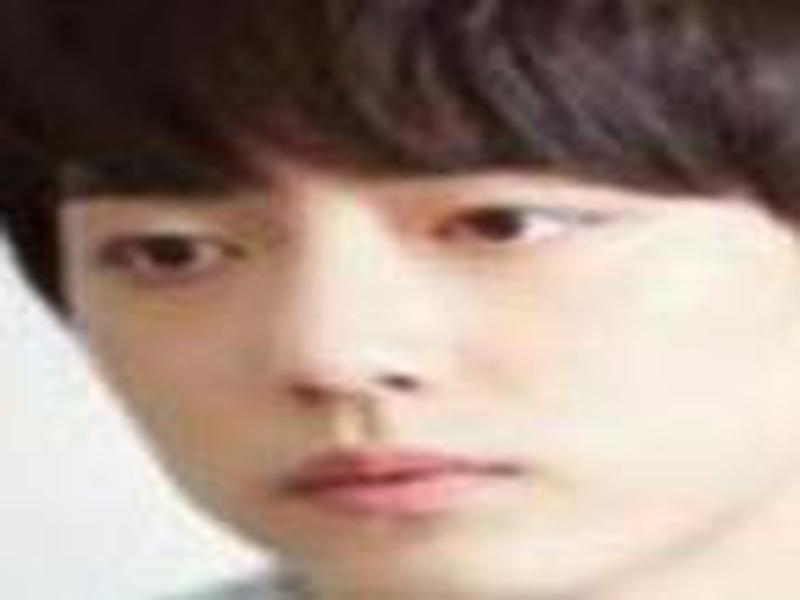without_mask: (42, 119, 757, 597)
